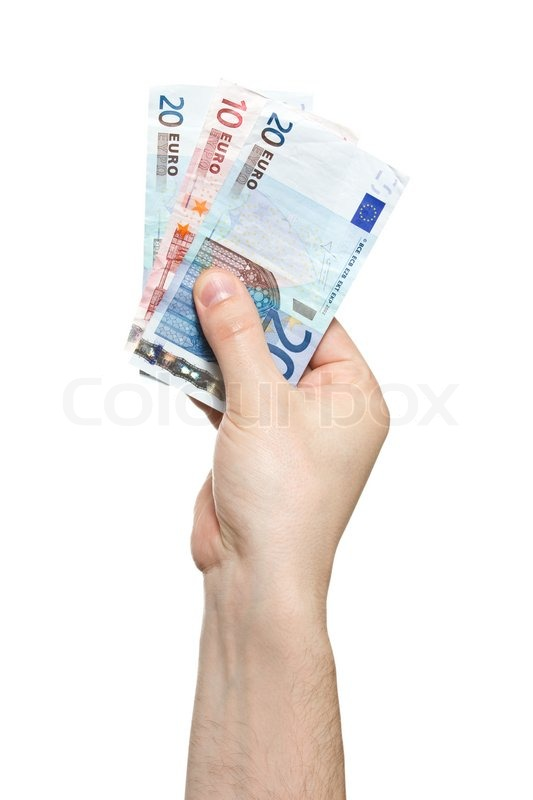billete: (114, 75, 417, 417)
